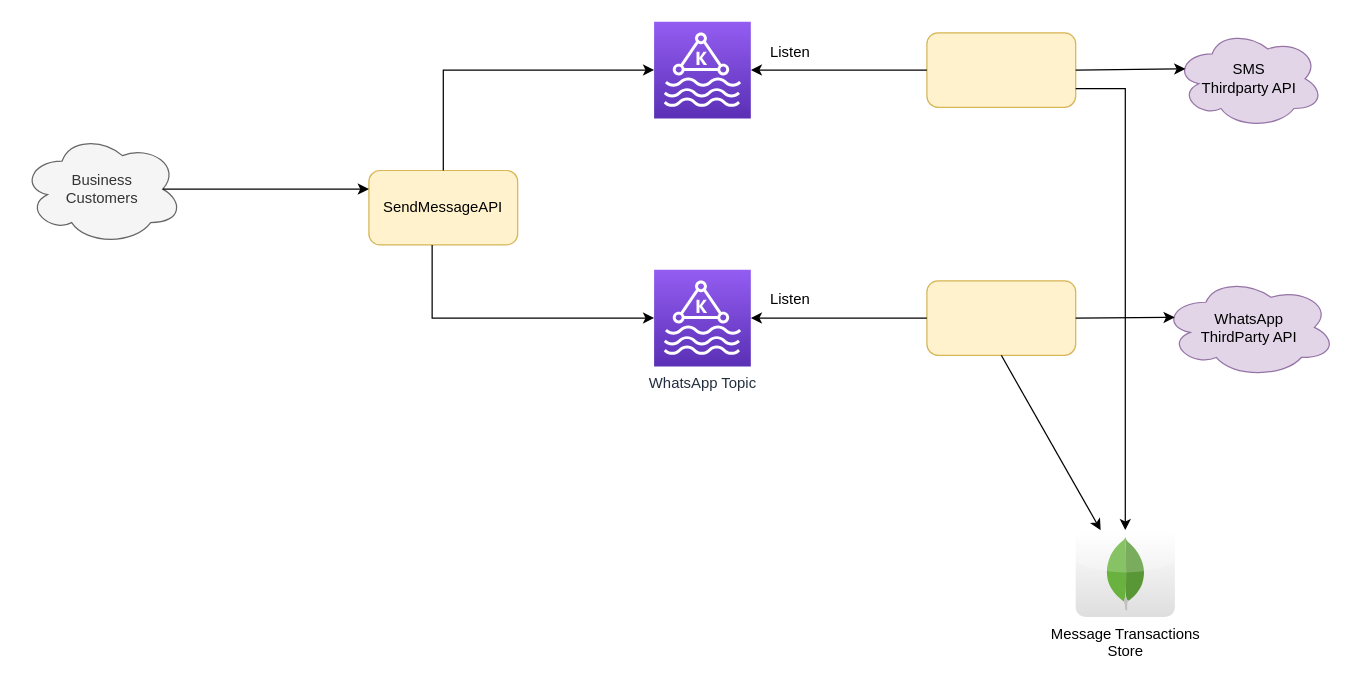
Image size: 1358x683. Some labels were removed from this diagram. Here are the shapes that lost their labels. From the top down, the centre of each, then its label:
[702,69]: SMS Topic
[1001,69]: SMS Send Service
[1001,317]: WhatsApp Send Service
